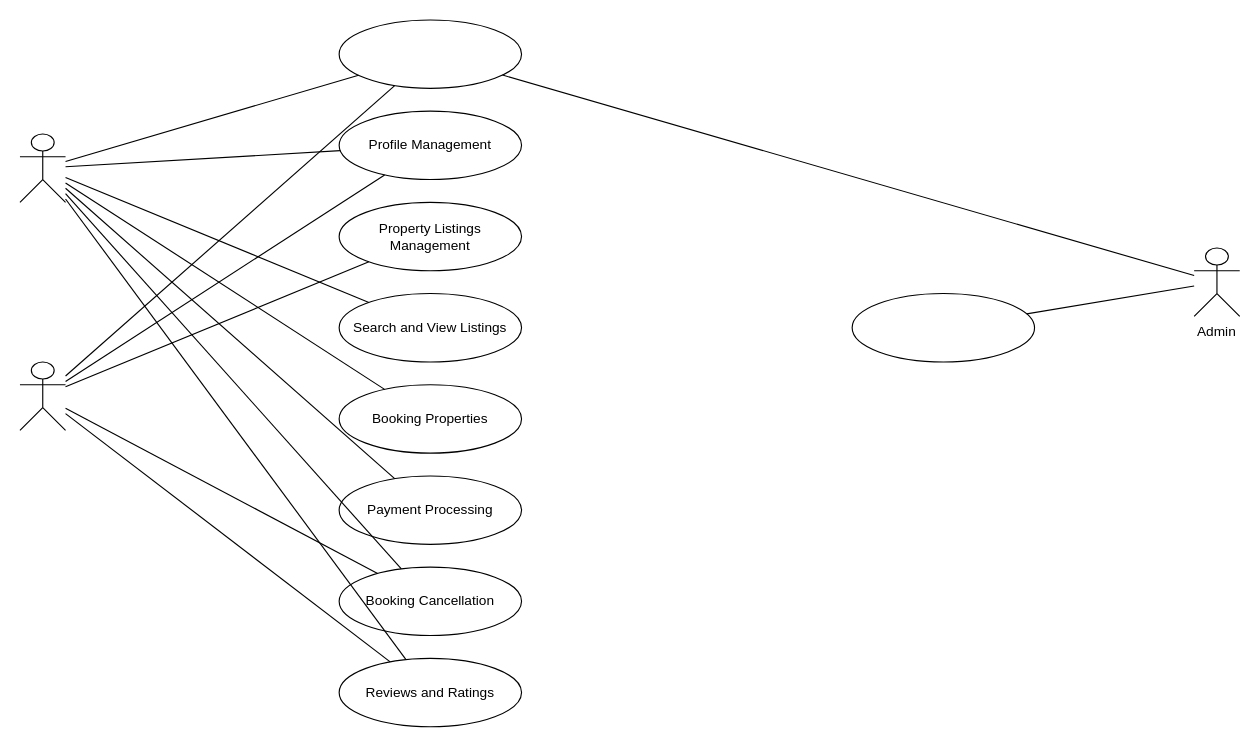
The diagram is 1260 pixels wide and 747 high, and some of its shapes have lost their labels. Here are the shapes that lost their labels. From the top down, the centre of each, then its label:
(430,53): Registration and Login
(42,167): Guest
(943,327): Admin Moderation and Management
(42,395): Host
